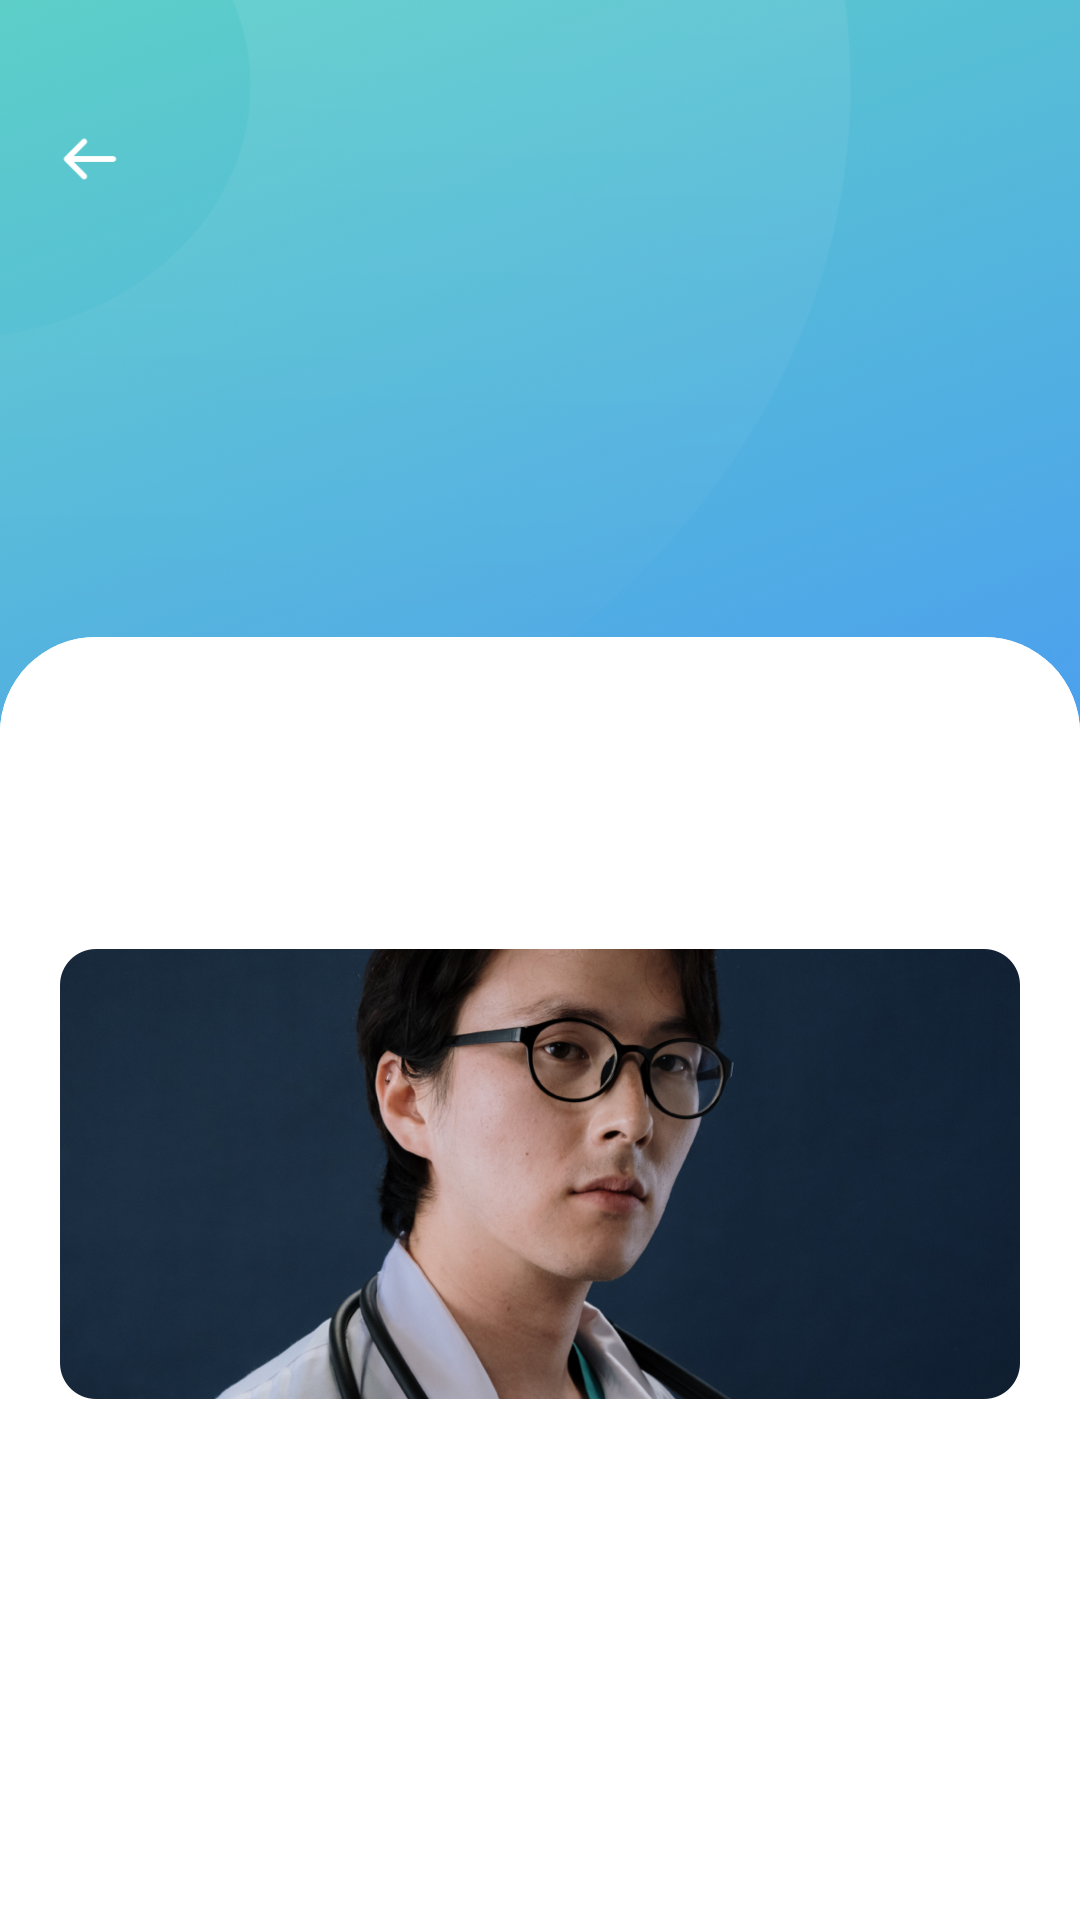

Icon bounding boxes for this 1080 × 1920 phone screenshot, format (x1, y1, x2, y2):
back: (63, 138, 117, 180)
